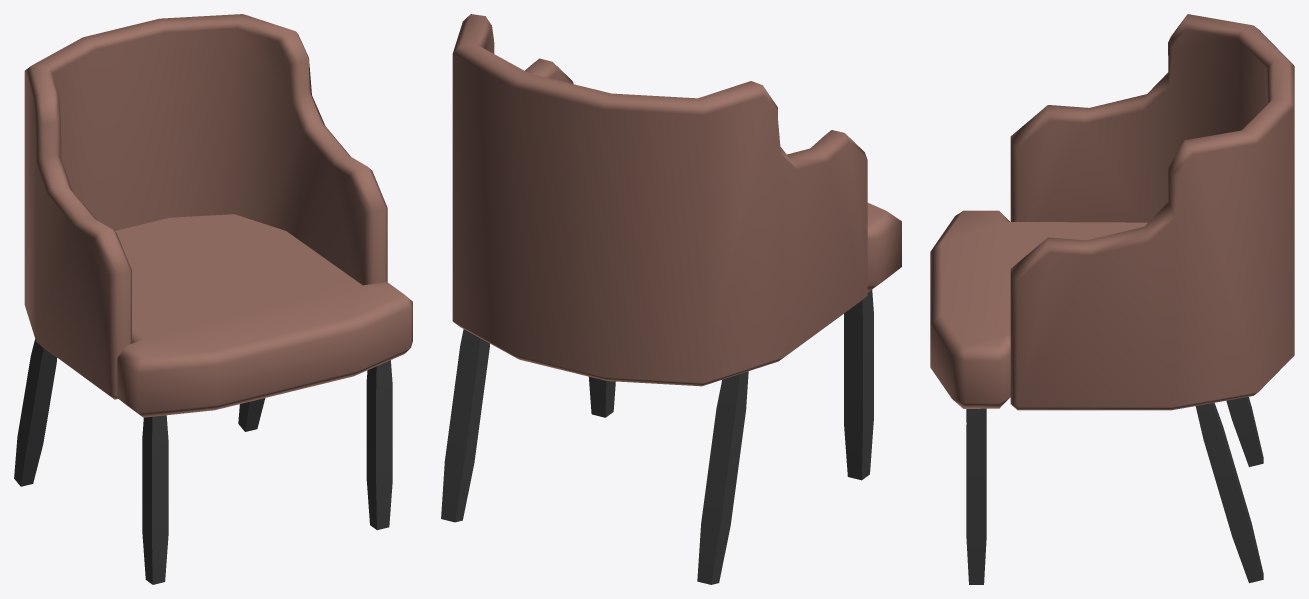
The model's file is Silla1.obj.
The picture shows the model from 3 angles, left to right: view 1: azimuth 30°, elevation 25°; view 2: azimuth 150°, elevation 25°; view 3: azimuth 270°, elevation 25°; orthographic projection. The views are drawn at different scales.
Parts seen in each view (by area): view 1: lounge_chair_001; view 2: lounge_chair_001; view 3: lounge_chair_001.
Part boxes in pixels (left/top/right/bottom): lounge_chair_001: left=14, top=14, right=412, bottom=584; lounge_chair_001: left=441, top=14, right=901, bottom=584; lounge_chair_001: left=930, top=14, right=1294, bottom=584.
Size of the model in its own units: 3.01 by 4.31 by 3.2.
1 material, 1 textured.
